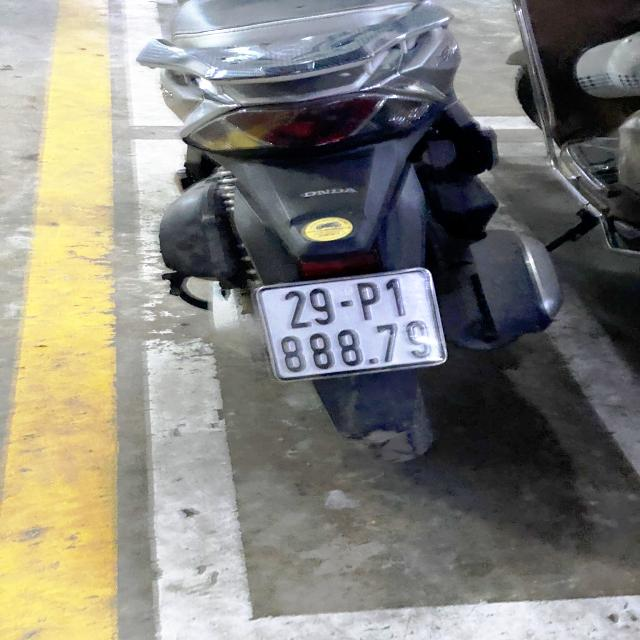license_plate: (247, 261, 458, 383)
